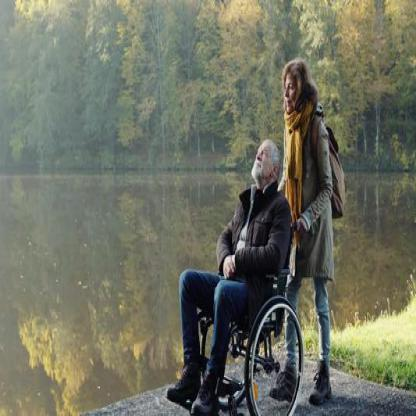wheelchair: (165, 137, 305, 415)
